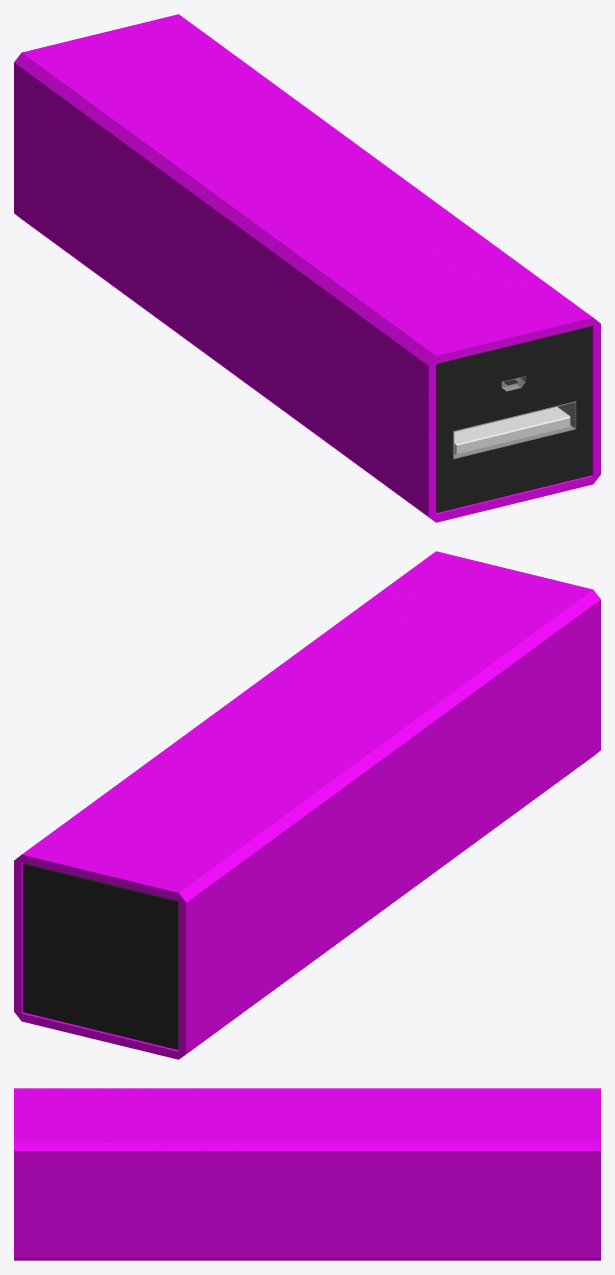
3 views of the same model, one above another, from view 1: azimuth 30°, elevation 25°; view 2: azimuth 150°, elevation 25°; view 3: azimuth 270°, elevation 25° (orthographic). The views are drawn at different scales.
Size of the model in its own units: 2.35 by 2.17 by 9.78.
1 material, 1 textured.
